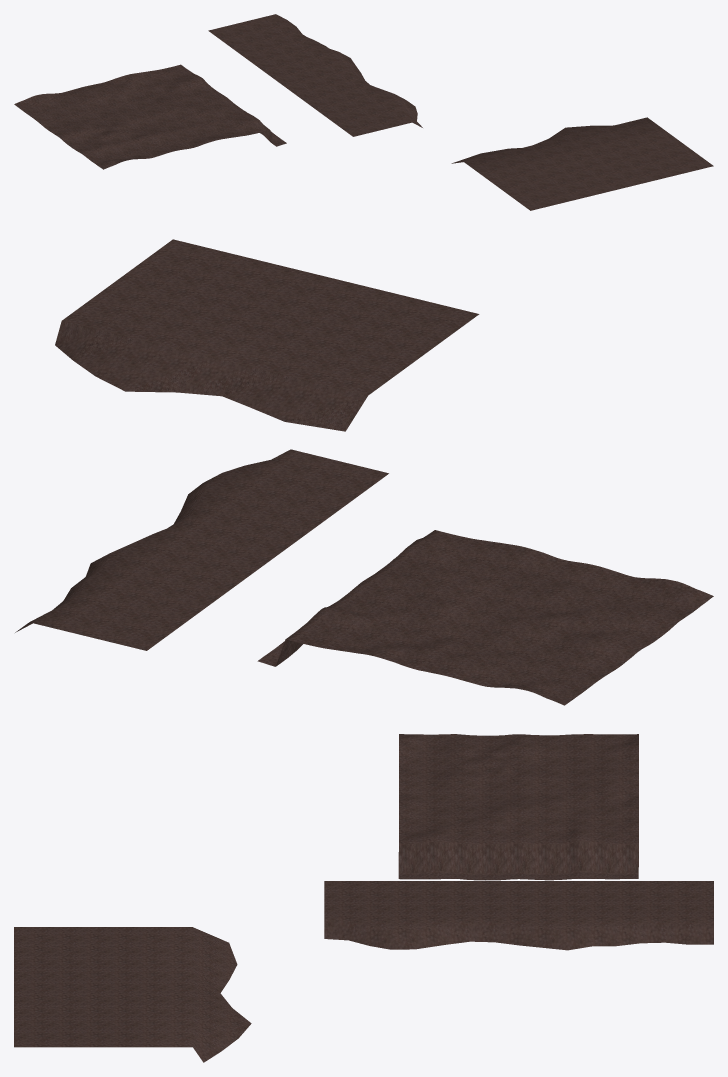
File: Neutral Ground - Level 1.FBX
3 renders of one model, top to bottom at view 1: azimuth 30°, elevation 25°; view 2: azimuth 150°, elevation 25°; view 3: azimuth 270°, elevation 25°, orthographic. The views are drawn at different scales.
Visible parts, largest first — view 1: Neutral Ground; view 2: Neutral Ground; view 3: Neutral Ground.
Boxes of the visible parts, bbox=[...] form: Neutral Ground: bbox=[14, 14, 713, 210]; Neutral Ground: bbox=[15, 239, 713, 705]; Neutral Ground: bbox=[14, 734, 713, 1062].
Bounding box in the file's own units: 840 × 39.29 × 812.
1 material, 1 textured.
